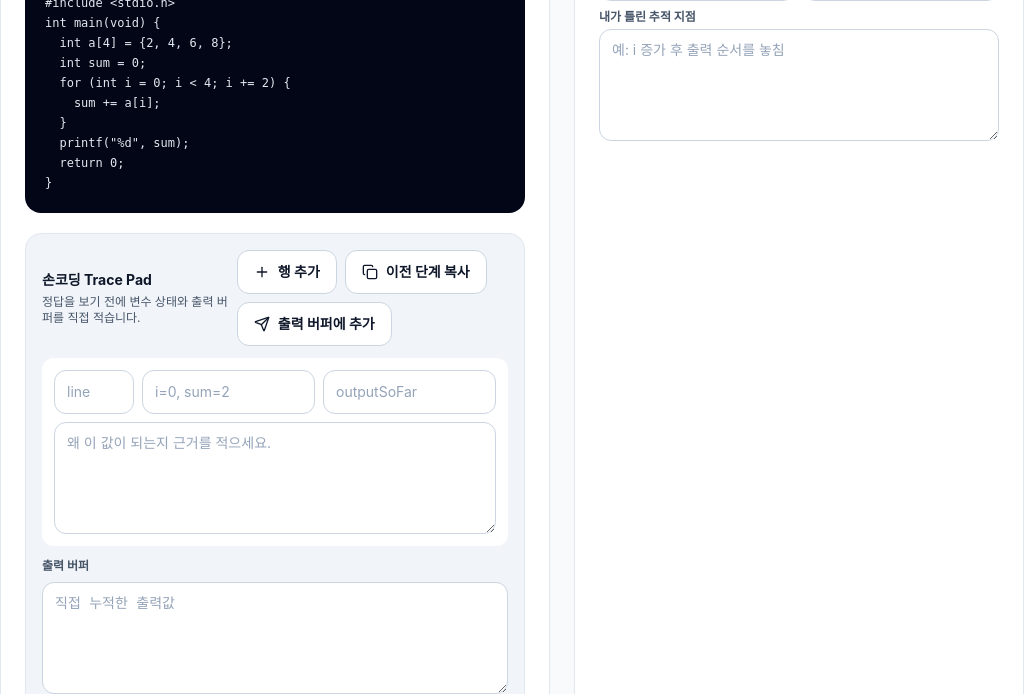
Test: QuestionSolver UX › trace 작성 후 정답 확인 시 내 답과 해설 trace를 보여준다
This screenshot has width=1024, height=694.
(page scrolled)
Step 1. Type "printf" into the field named "현재 줄 번호" → (94, 392), box [54,370,134,414]
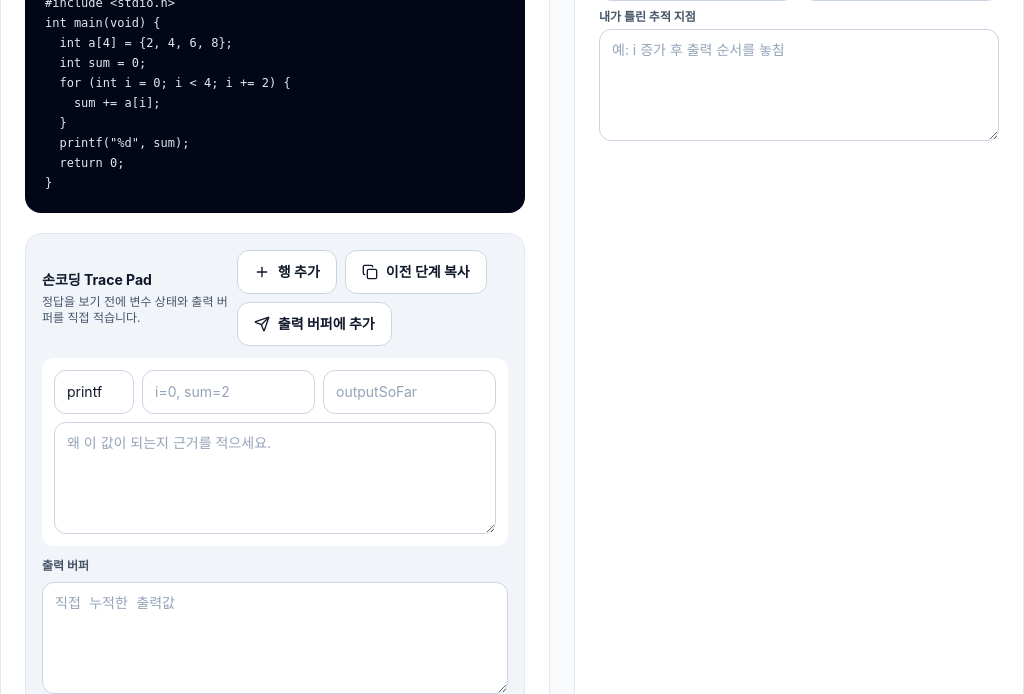
Step 2. Type "sum=8" into the field named "변수 상태" → (228, 392), box [142,370,315,414]
(page scrolled)
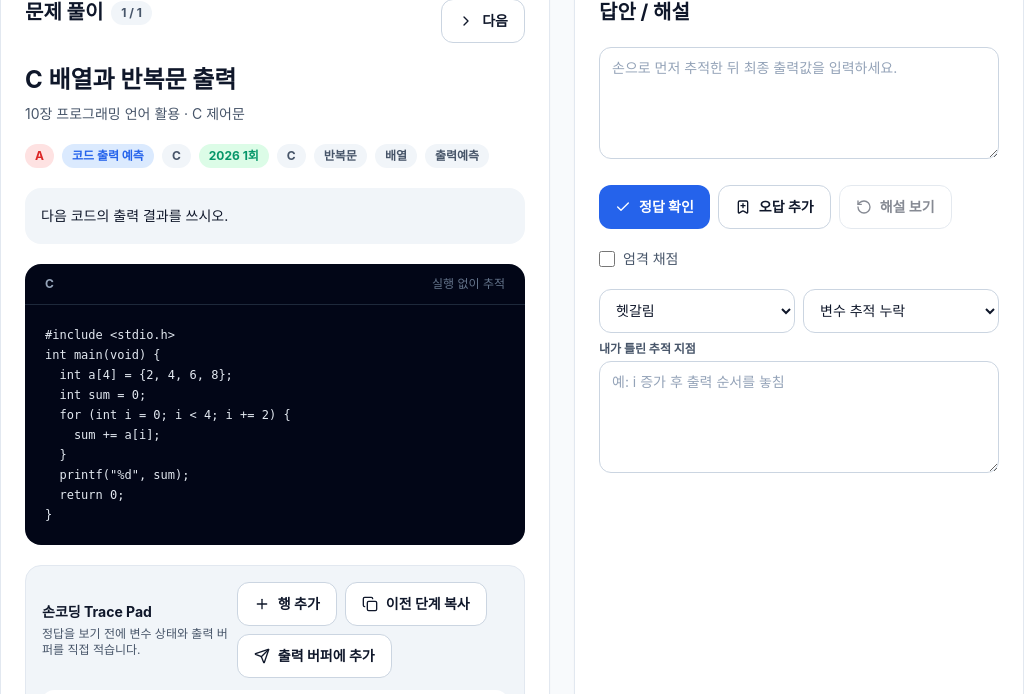
Step 3. Type "8" into the text box with placeholder "손으로 먼저 추적한 뒤 최종 출력값을 입력하세요." → (799, 102), box [599,46,999,158]
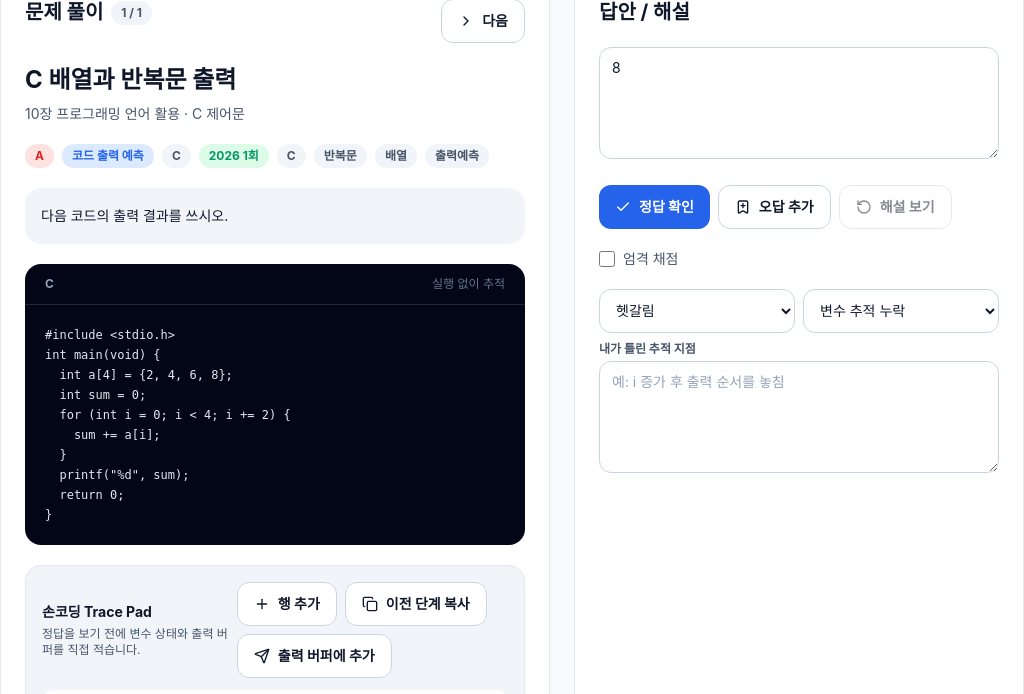
Step 4. Click the button "정답 확인" → (654, 206), box [599,184,710,228]
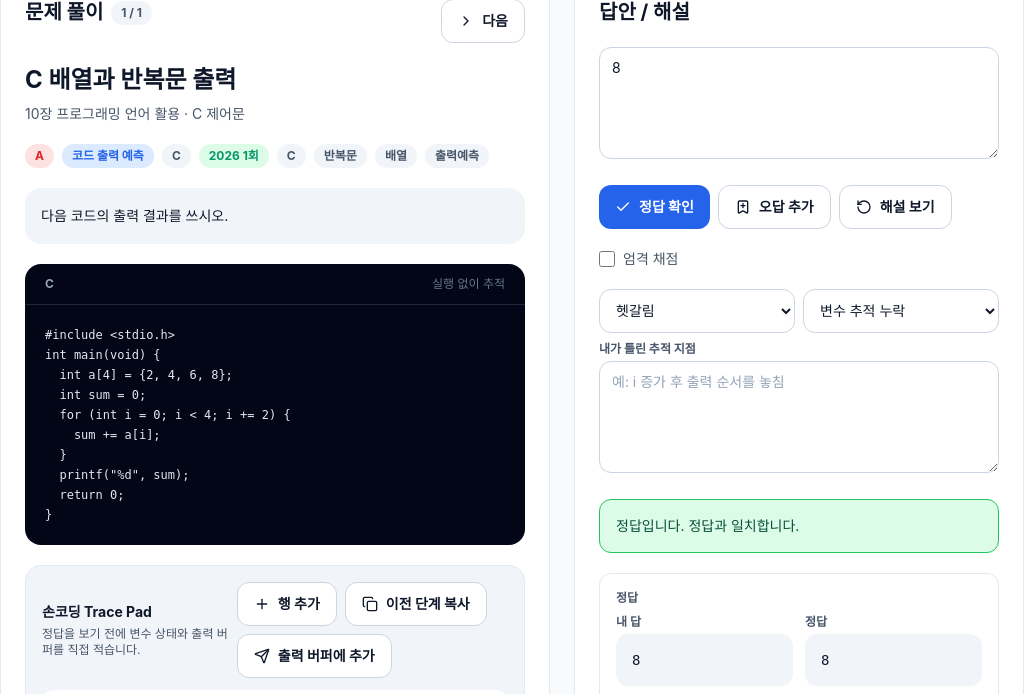
Expected: the text "정답입니다. 정답과 일치합니다." is shown, [599,498,999,552]
Expected: the text "내 답" is shown, [616,614,641,628]
Expected: the button "해설 보기" is enabled, [839,184,952,228]
